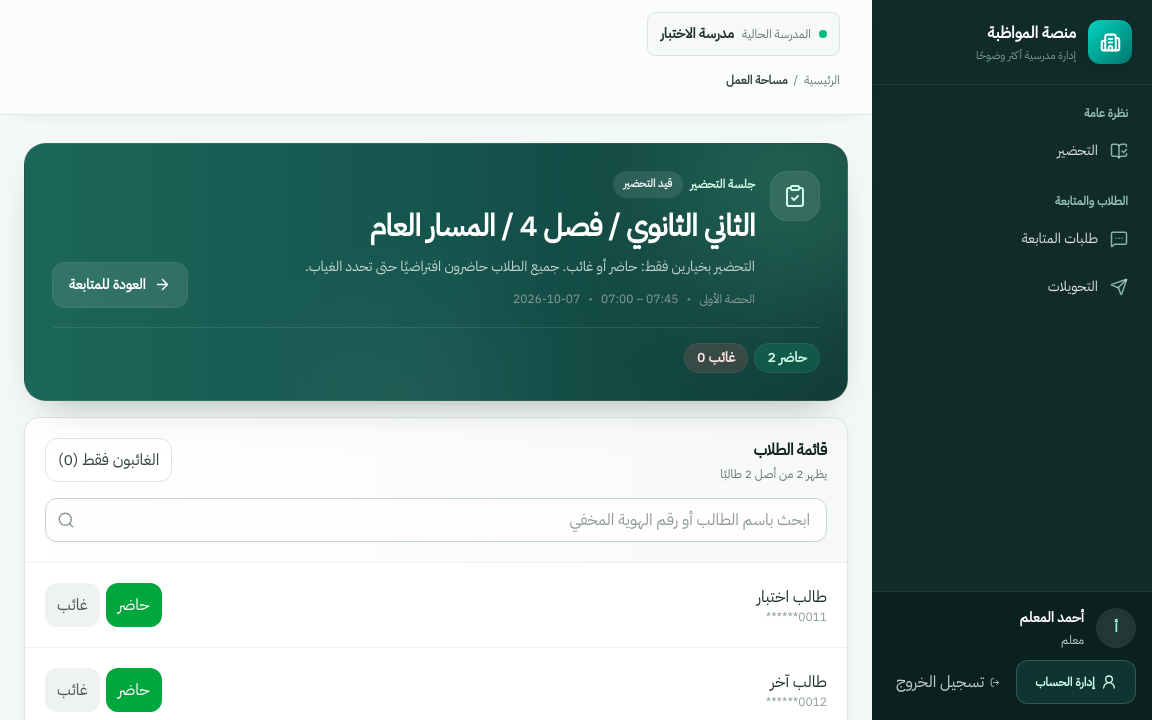
attendance draft recovery › preserves choices and retry if fetching the winning approval fails
The width and height of the screenshot is (1152, 720).
Click the button "غائب" in the row of "طالب اختبار". click: (72, 604)
box: top-left (45, 582), bottom-right (100, 626)
(page scrolled)
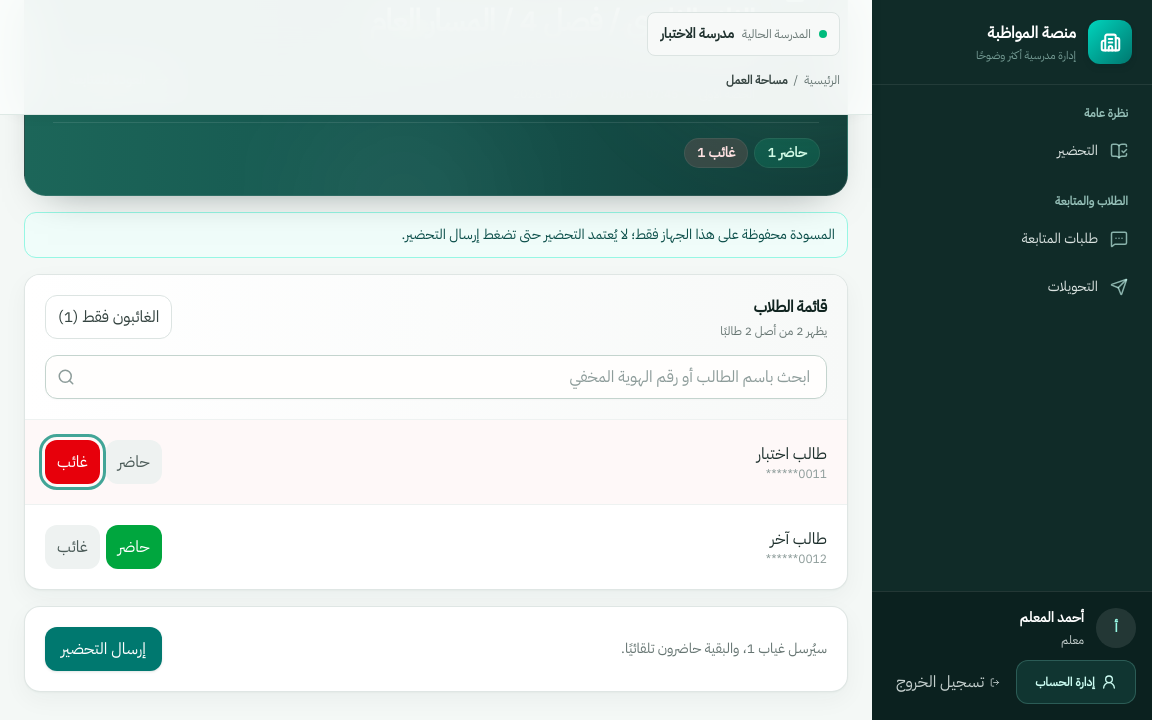
Click the button with test id "submit-attendance". click: (103, 648)
box: top-left (45, 626), bottom-right (162, 670)
(page scrolled)
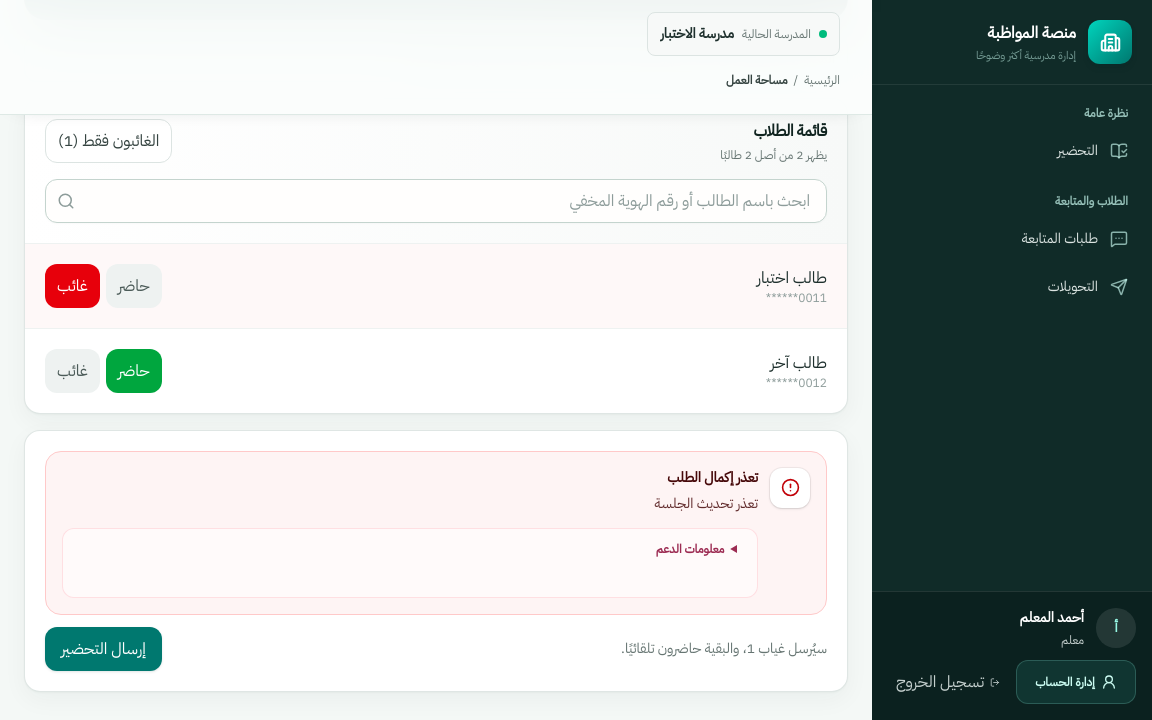
Expected: the message shows "تعذر تحديث الجلسة", top-left (654, 492), bottom-right (758, 514)
